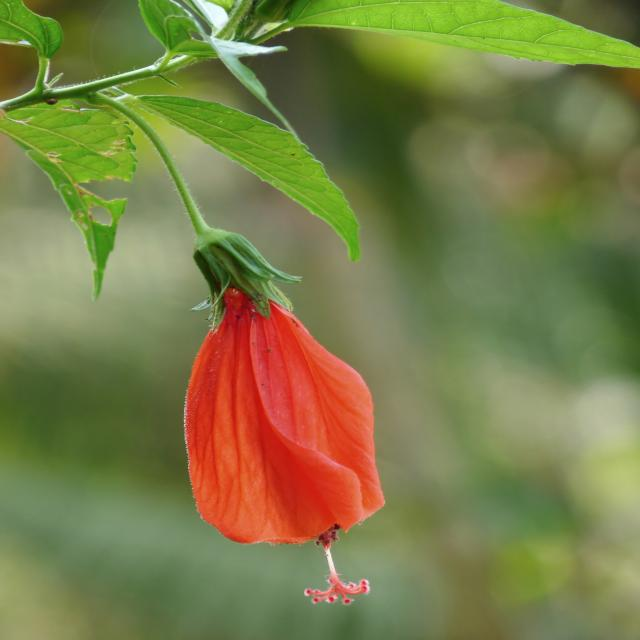Flower: (165, 226, 384, 608)
